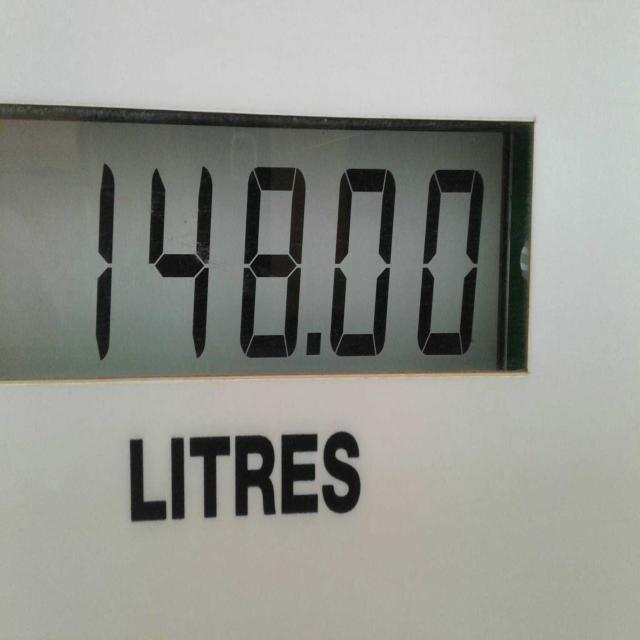.: (291, 306, 326, 375)
0: (321, 153, 407, 372), (410, 154, 498, 366)
1: (73, 124, 139, 374)
4: (140, 164, 229, 375)
8: (230, 149, 305, 366)
